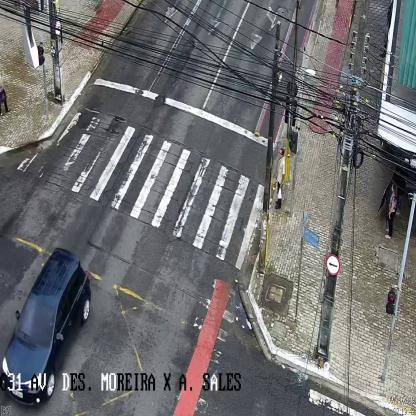car: (2, 246, 91, 405)
person: (384, 182, 399, 240), (274, 148, 286, 209)
